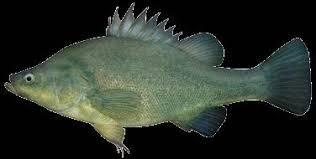Silver Perch: (5, 2, 315, 156)
